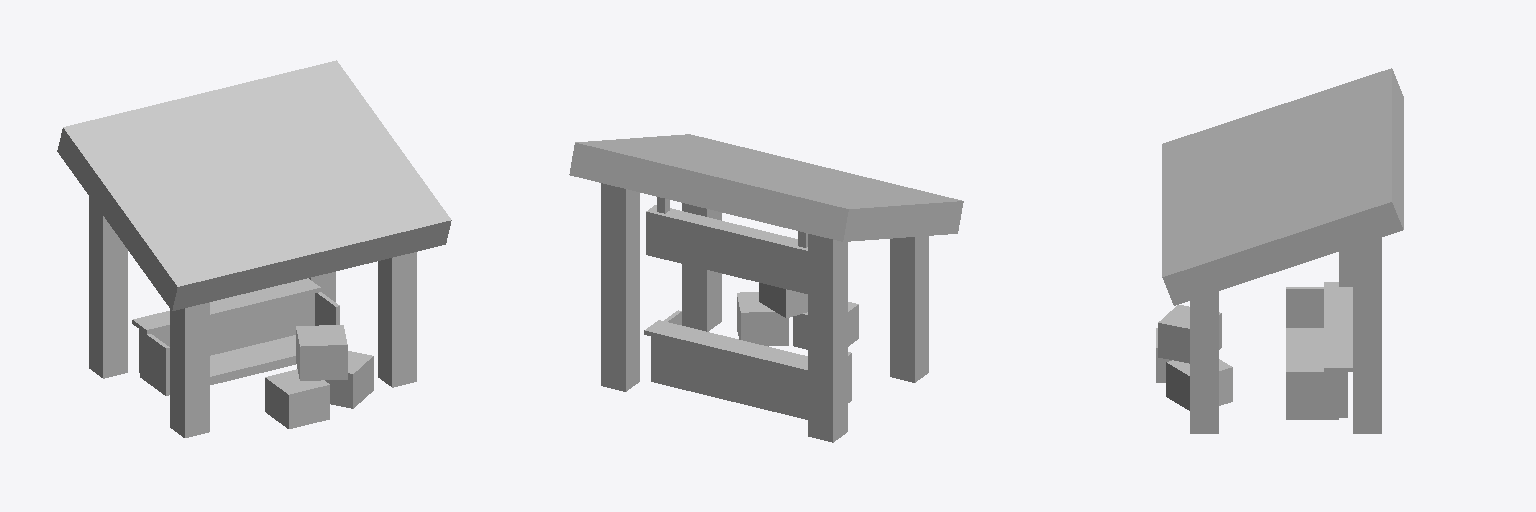
The model's file is shop.obj.
The picture shows the model from 3 angles: view 1: azimuth 30°, elevation 25°; view 2: azimuth 150°, elevation 25°; view 3: azimuth 270°, elevation 25°; orthographic projection.
Parts seen in each view (by area): view 1: cube; view 2: cube; view 3: cube.
Boxes of the visible parts, <box> form: cube: <box>57,60,451,437</box>; cube: <box>569,134,963,442</box>; cube: <box>1156,68,1403,433</box>.
Bounding box in the file's own units: 0.5156 × 0.4358 × 0.403.